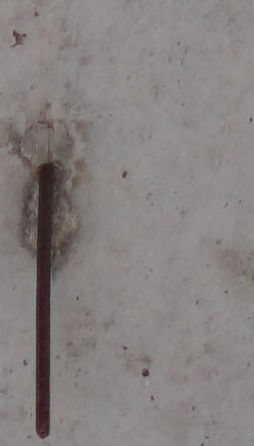Exposed reinforcement: (34, 162, 55, 439)
Spalling: (17, 120, 75, 254)
